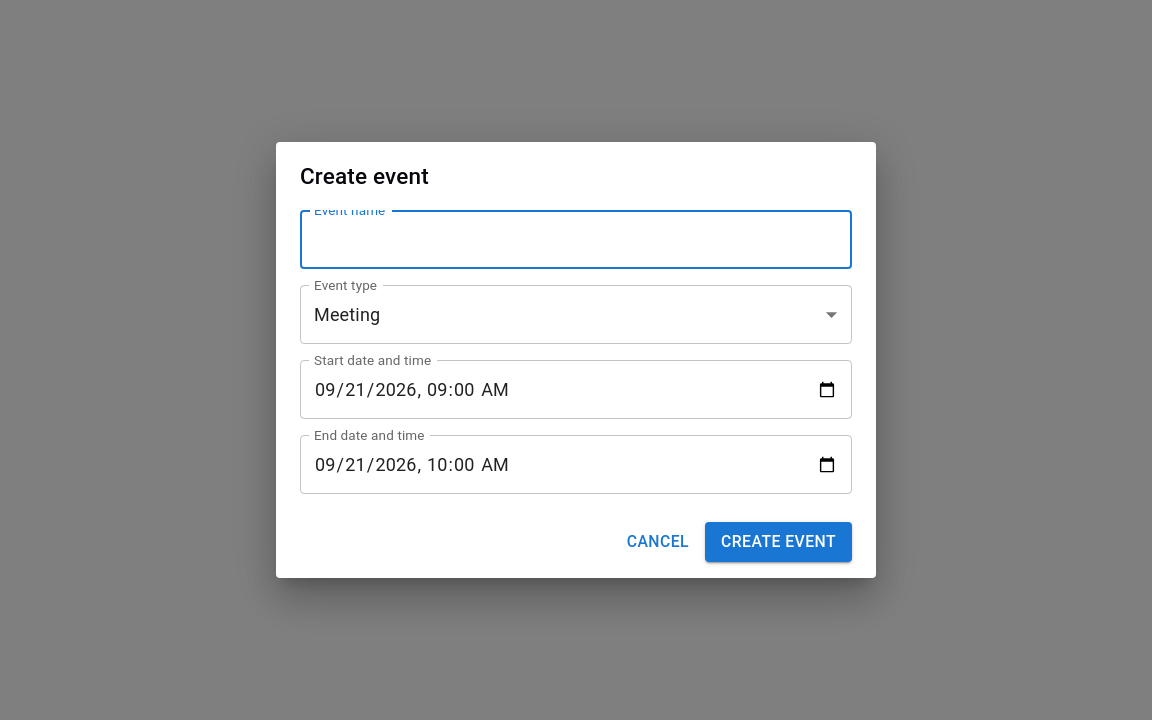
Test: EventDialog › blocks save and shows an error for an empty name
Click the button "Create event" at (779, 542), box [705,522,852,562]
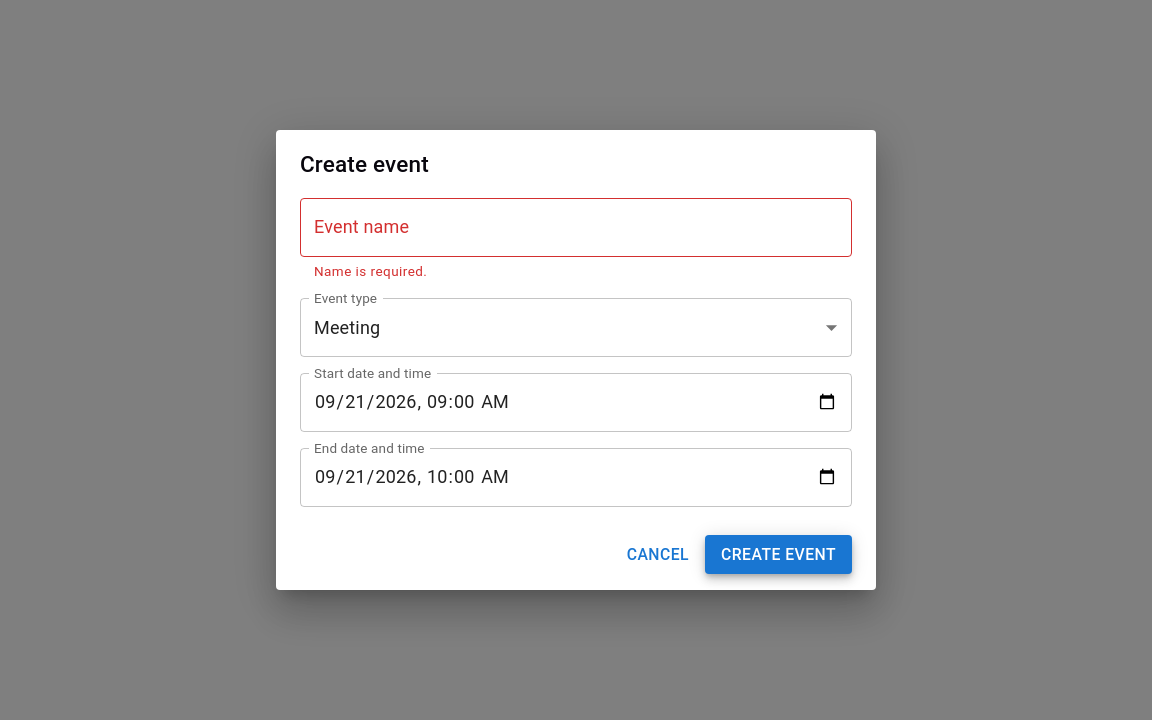
Expected: the text "Name is required." is shown, [314,263,427,279]
